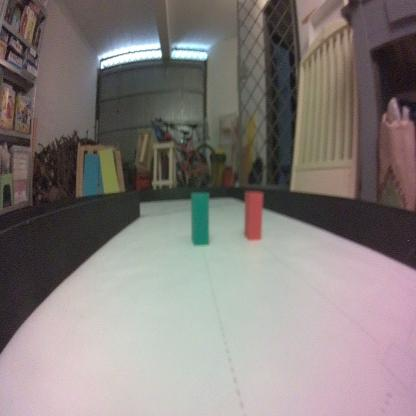green: (189, 189, 209, 244)
red: (242, 188, 262, 240)
